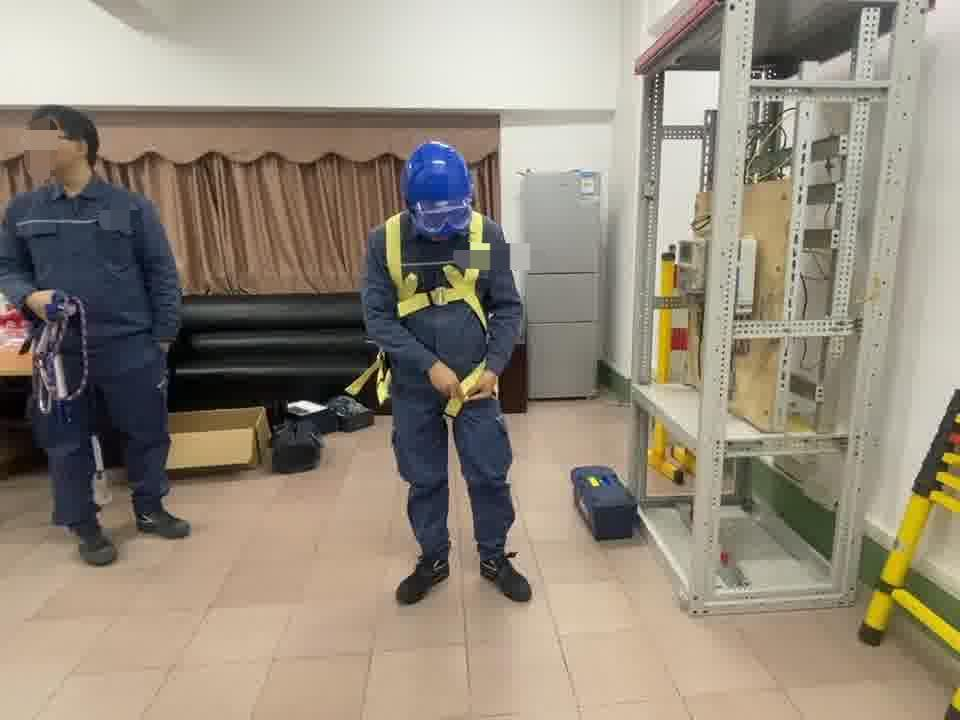halt: (405, 144, 478, 240)
noear: (48, 133, 98, 174)
unhalt: (25, 110, 104, 193)
